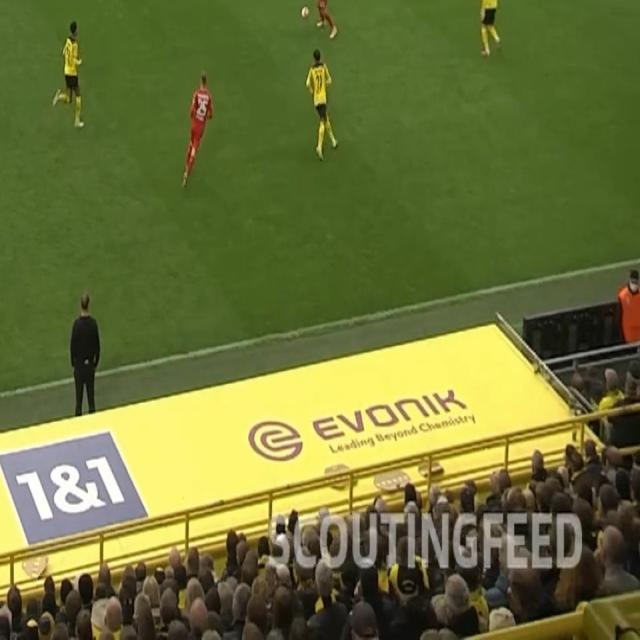ball: (300, 5, 310, 22)
